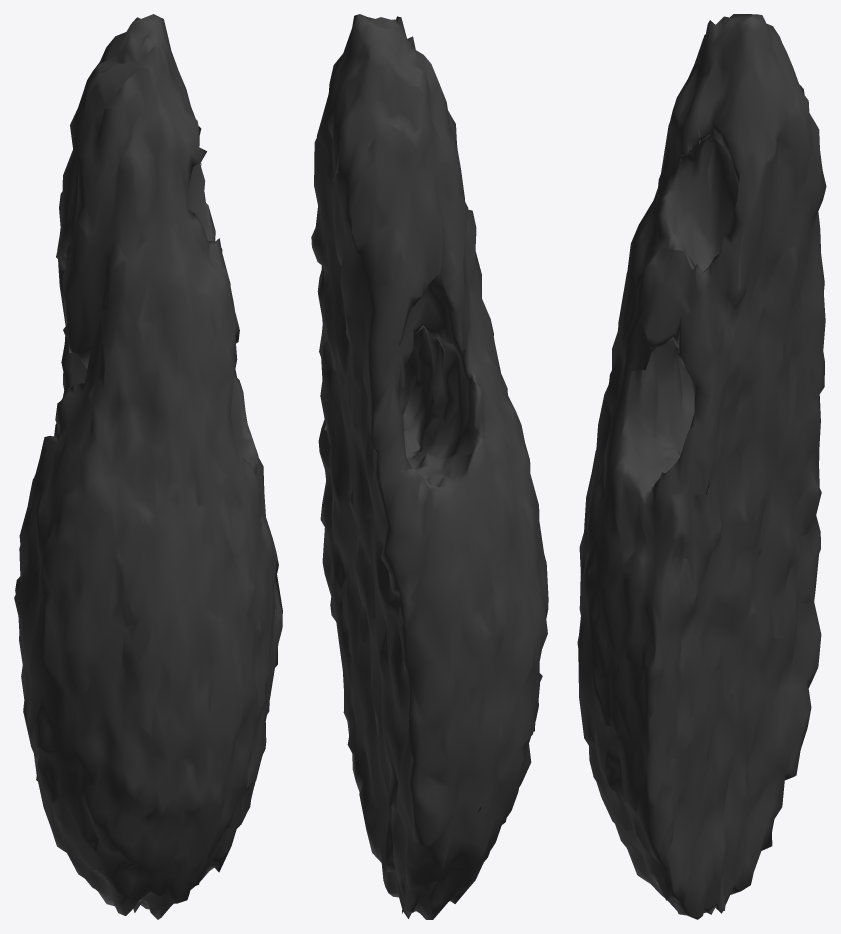
Rendered from spire-1.glb.
3 renders of one model, left to right at view 1: azimuth 30°, elevation 25°; view 2: azimuth 150°, elevation 25°; view 3: azimuth 270°, elevation 25°, orthographic. The views are drawn at different scales.
Visible parts, largest first — view 1: geometry_0; view 2: geometry_0; view 3: geometry_0.
Boxes of the visible parts, <box> form: geometry_0: <box>14,14,282,919</box>; geometry_0: <box>311,14,548,919</box>; geometry_0: <box>577,14,826,919</box>.
Size of the model in its own units: 0.2724 by 1 by 0.247.
1 material, 1 textured.
